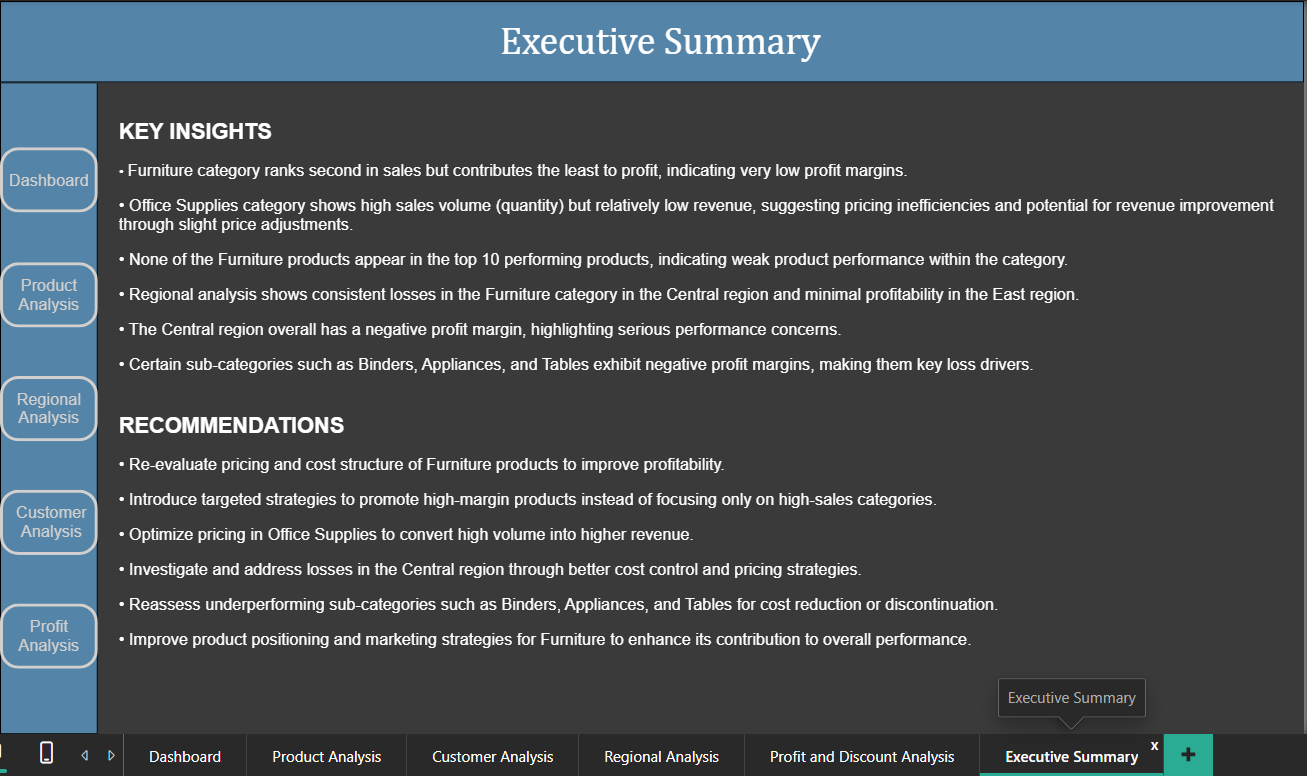

This screenshot's page, from the dashboard's own definition file:
{"tool":"powerbi","page":{"name":"Executive Summary","canvas":[1280,720],"ordinal":5},"visuals":[{"type":"shape","box":[0,80,96,640],"z":3000},{"type":"actionButton","box":[0,144,96,64],"z":4000},{"type":"actionButton","box":[0,256,96,64],"z":5000},{"type":"actionButton","box":[0,368,96,64],"z":6000},{"type":"actionButton","box":[0,480,96,64],"z":7000},{"type":"shape","box":[0,0,1280,80],"z":8000},{"type":"textbox","box":[400,0,496,80],"z":10000},{"type":"textbox","box":[112,112,1168,272],"z":10001},{"type":"textbox","box":[112,400,1168,288],"z":10002},{"type":"actionButton","box":[0,592,96,64],"z":10003}]}

Visuals, with their boxes on the page's 1280x720 design canvas (x1, y1, x2, y2). These are canvas units, not pixel positions in the 1307x776 screenshot, which may show the page scaled, cropped or inside an application window:
shape: (0,80,96,720)
actionButton: (0,144,96,208)
actionButton: (0,256,96,320)
actionButton: (0,368,96,432)
actionButton: (0,480,96,544)
shape: (0,0,1280,80)
textbox: (400,0,896,80)
textbox: (112,112,1280,384)
textbox: (112,400,1280,688)
actionButton: (0,592,96,656)
